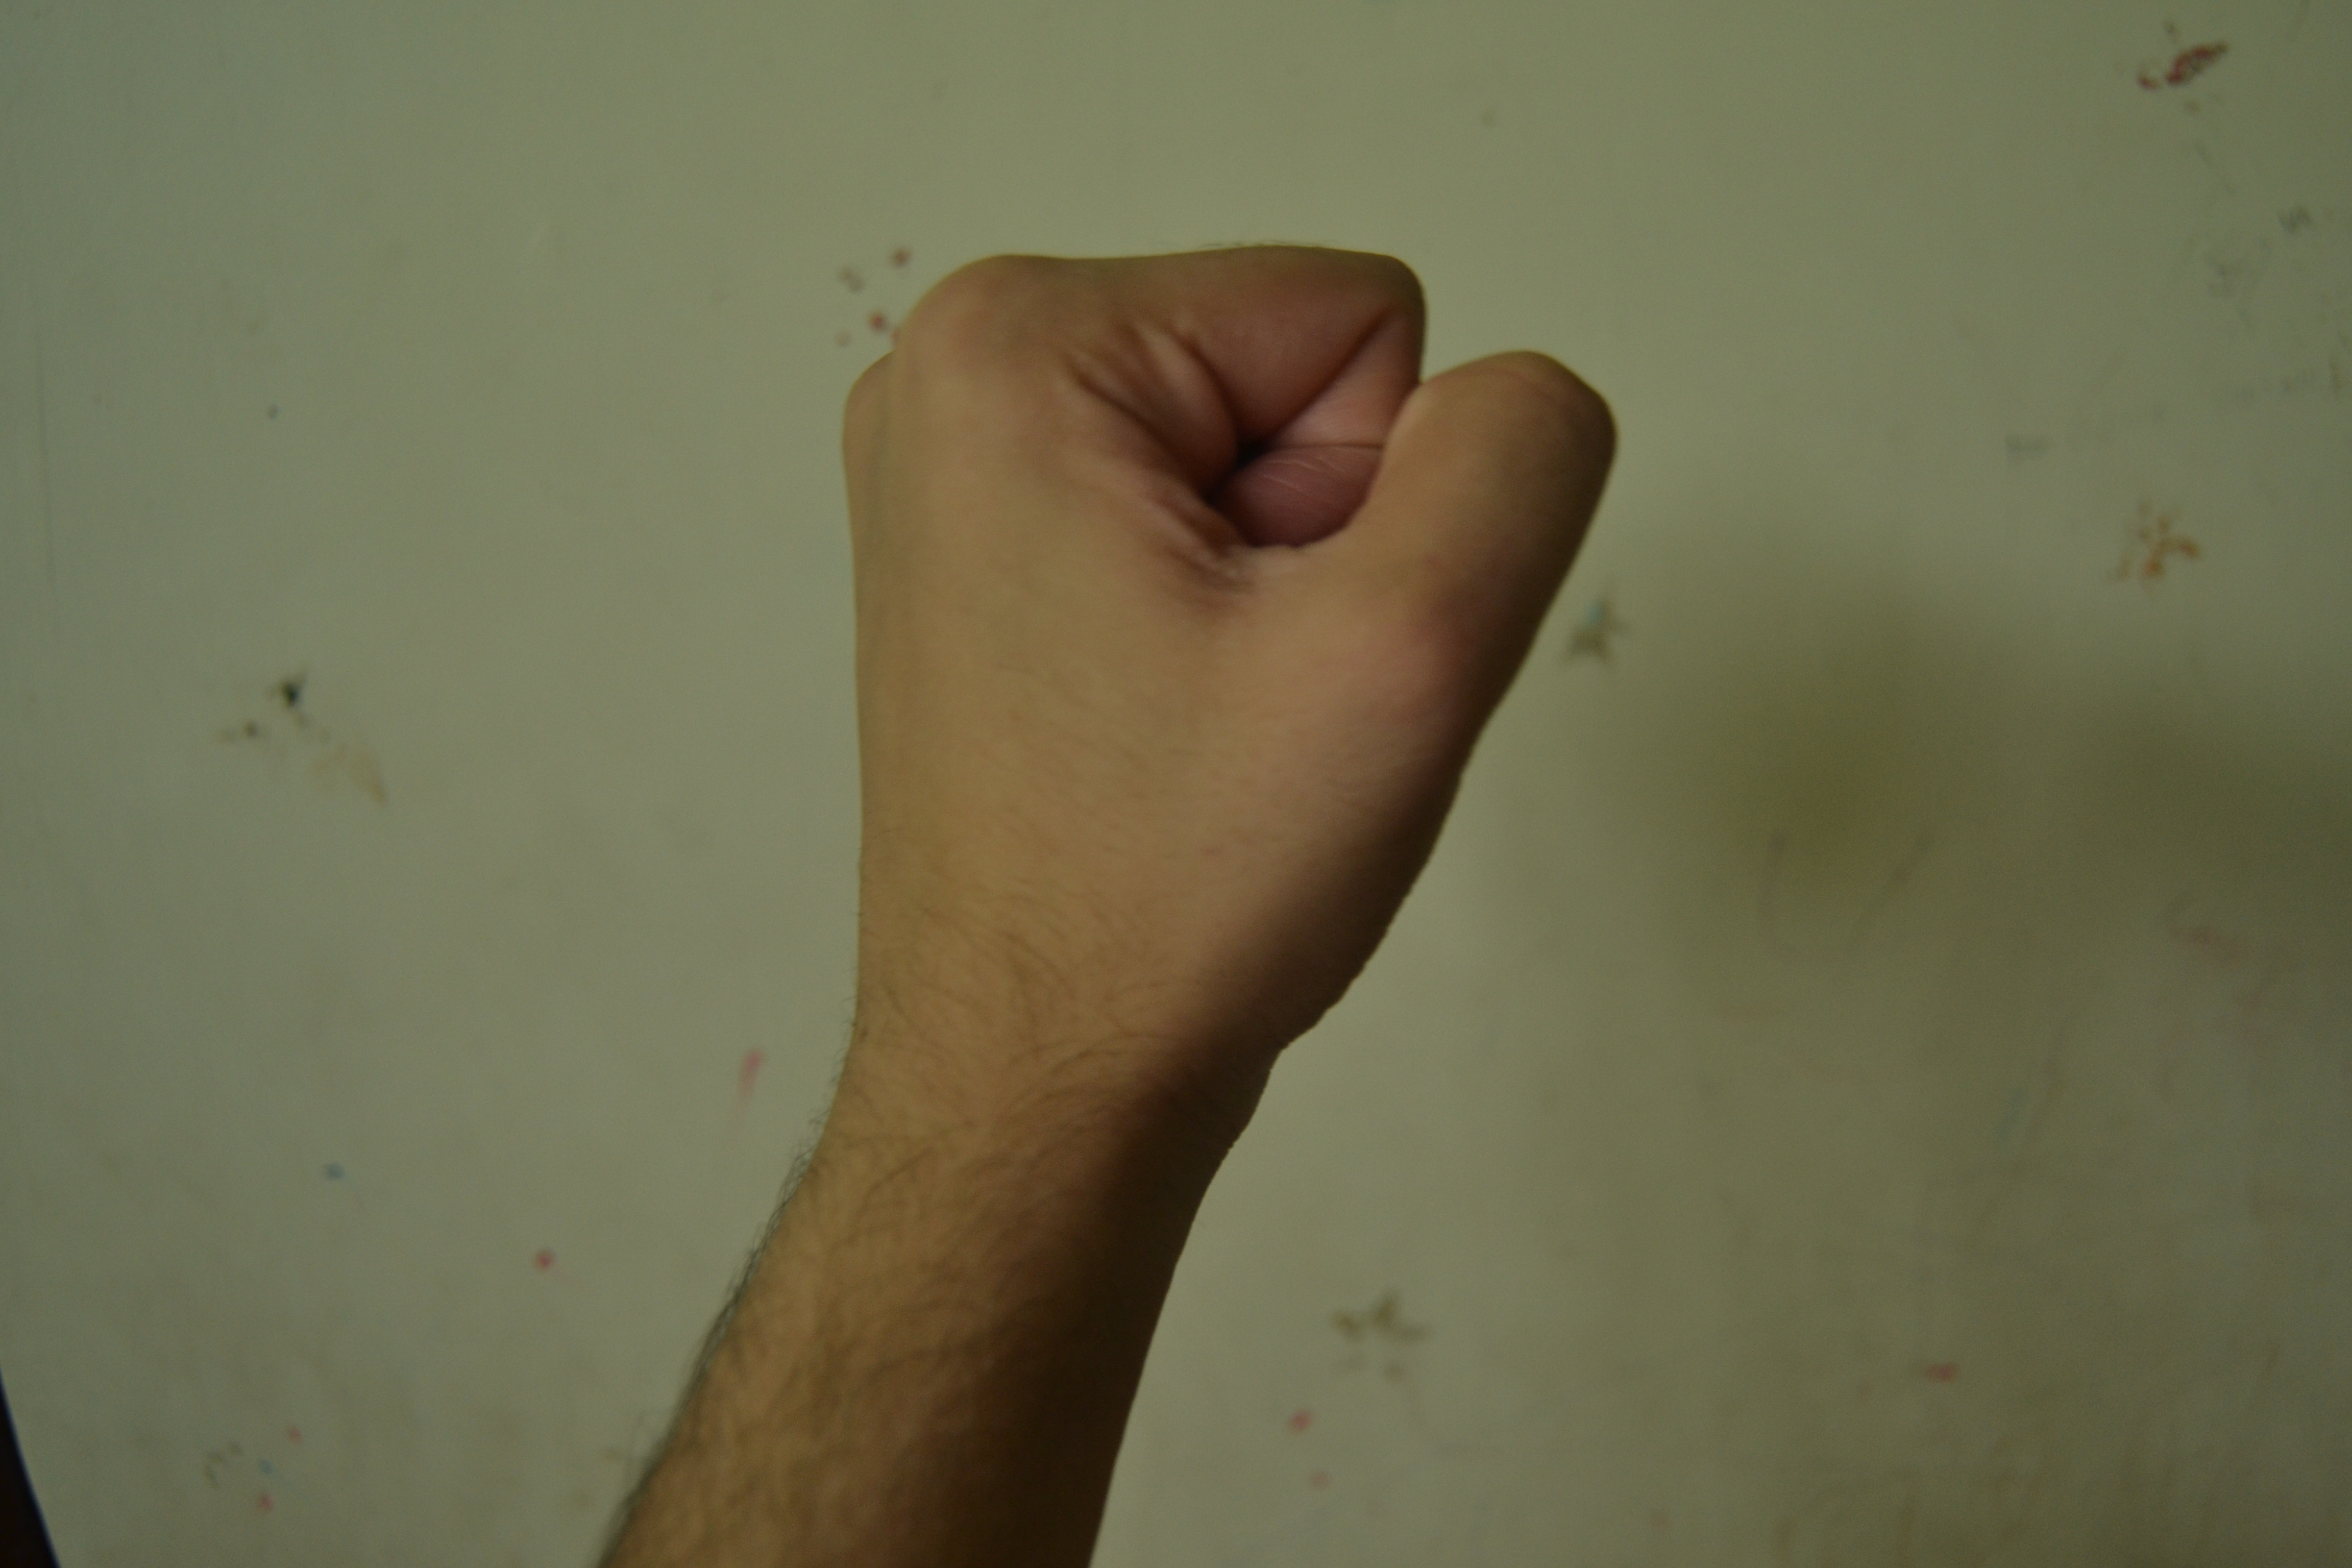click: (798, 222, 1619, 1102)
